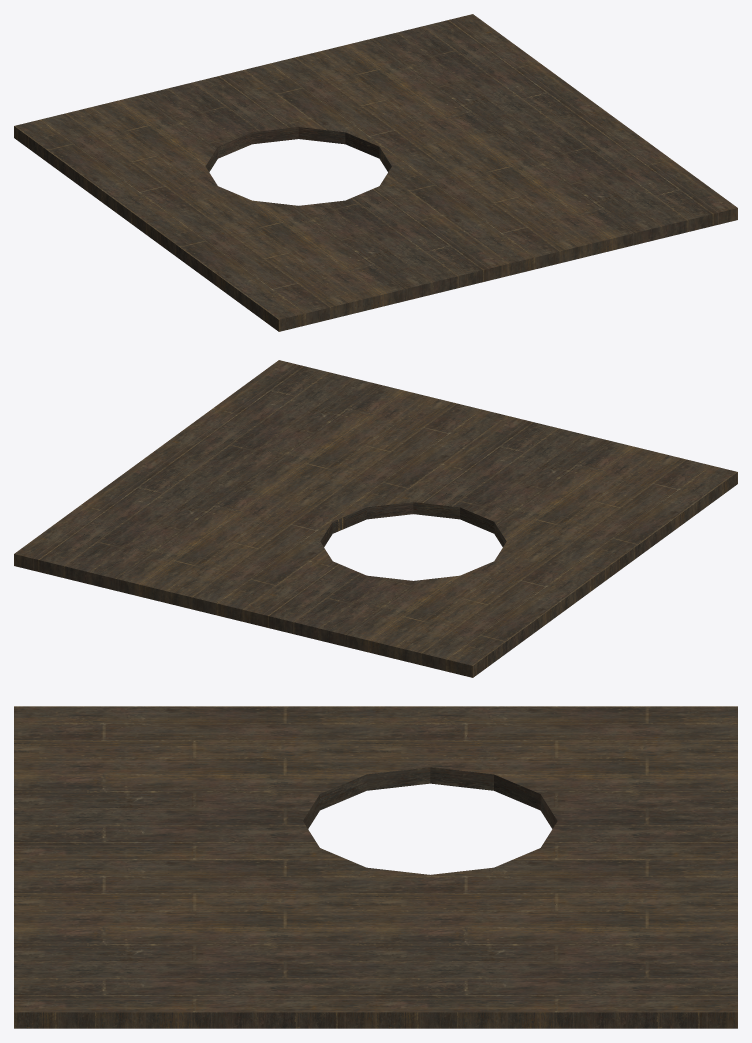
File: SM_Floor_4X4.fbx
3 renders of one model, top to bottom at view 1: azimuth 30°, elevation 25°; view 2: azimuth 150°, elevation 25°; view 3: azimuth 270°, elevation 25°, orthographic. The views are drawn at different scales.
Visible parts, largest first — view 1: SM_Floor_4X4; view 2: SM_Floor_4X4; view 3: SM_Floor_4X4.
Boxes of the visible parts, left/top/right/bottom form: SM_Floor_4X4: left=14, top=14, right=737, bottom=331; SM_Floor_4X4: left=14, top=360, right=737, bottom=677; SM_Floor_4X4: left=14, top=706, right=737, bottom=1028.
Bounding box in the file's own units: 4 × 0.1 × 4.
